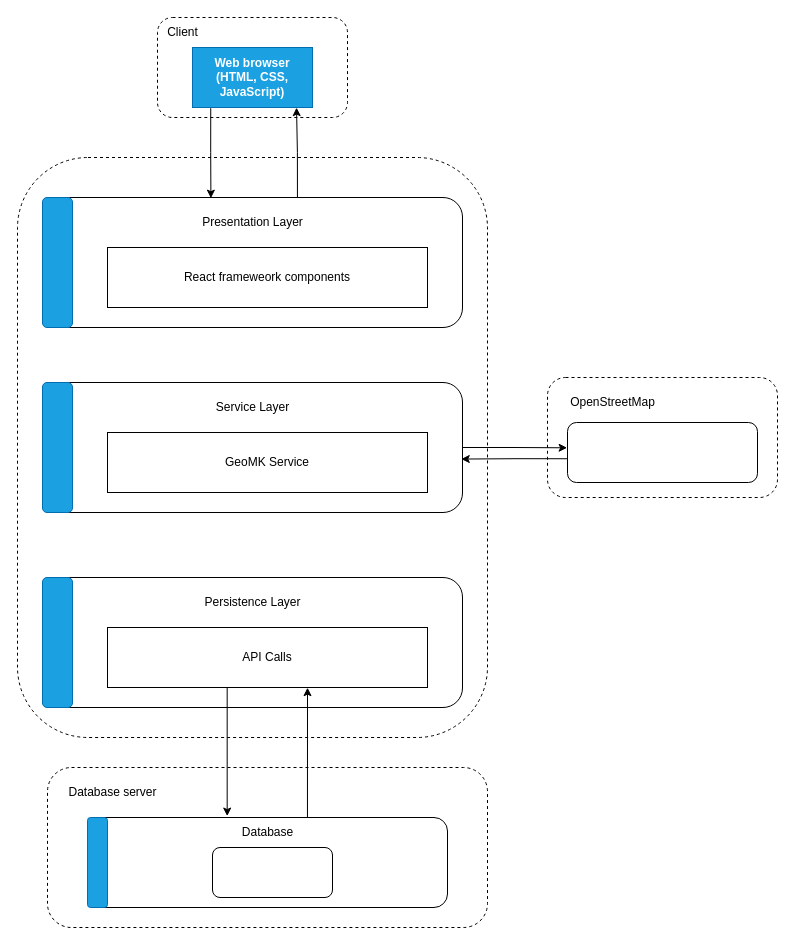
Some shapes in this 795 by 945 pixel diagram are drawn without their labels. The centre of each missing label's shape, as x and y in pixels:
Overpass API: [662,452]
SQLite: [272,872]
